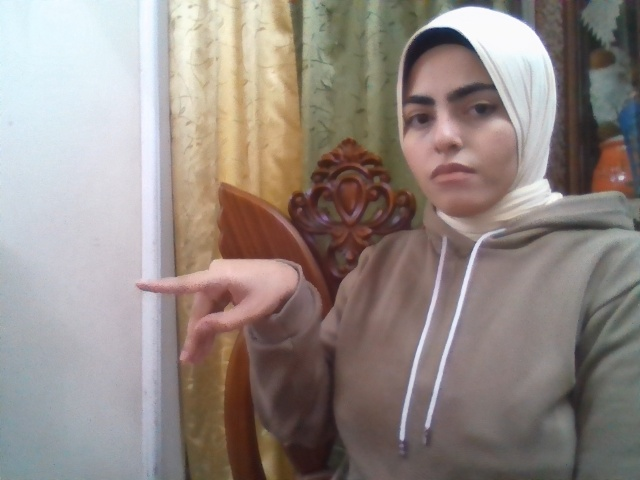P: (134, 258, 296, 363)
